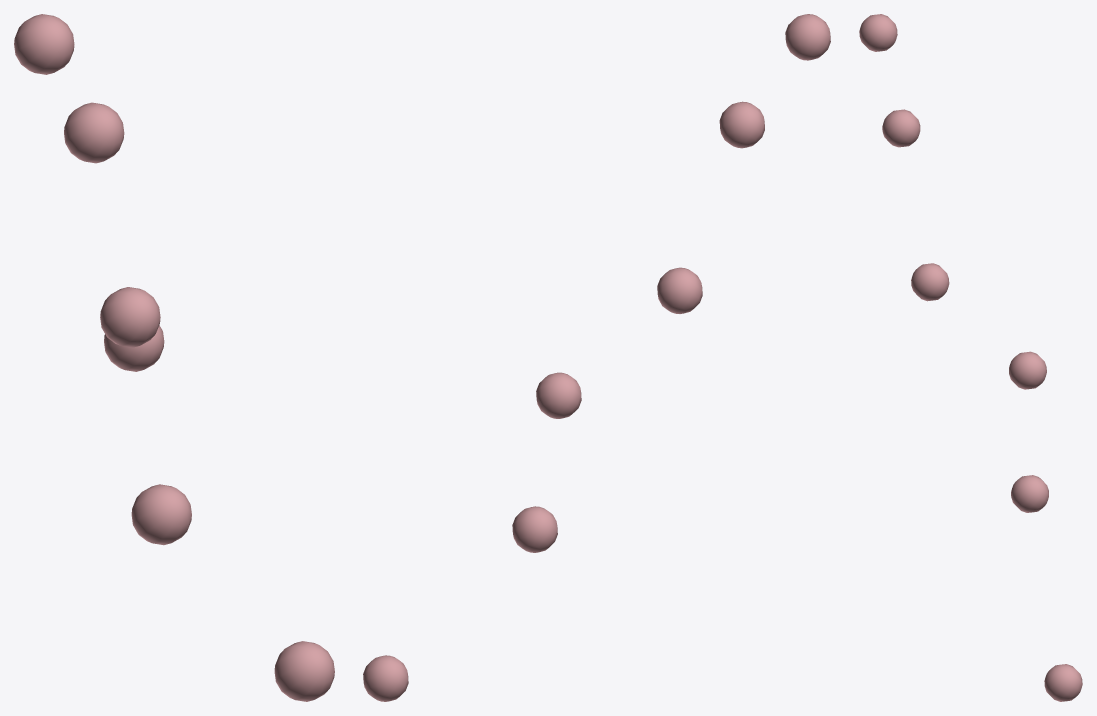
3 views of the same model, side by side, from view 1: azimuth 30°, elevation 25°; view 2: azimuth 150°, elevation 25°; view 3: azimuth 270°, elevation 25° (orthographic). The views are drawn at different scales.
Visible parts, largest first — view 1: ZA_6ec84eb1e684ab0d; view 2: ZA_6ec84eb1e684ab0d; view 3: ZA_6ec84eb1e684ab0d.
Boxes of the visible parts, <box> form: ZA_6ec84eb1e684ab0d: <box>14,14,334,701</box>; ZA_6ec84eb1e684ab0d: <box>363,14,830,701</box>; ZA_6ec84eb1e684ab0d: <box>859,14,1082,701</box>.
Size of the model in its own units: 0.0225 by 0.0415 by 0.015.
